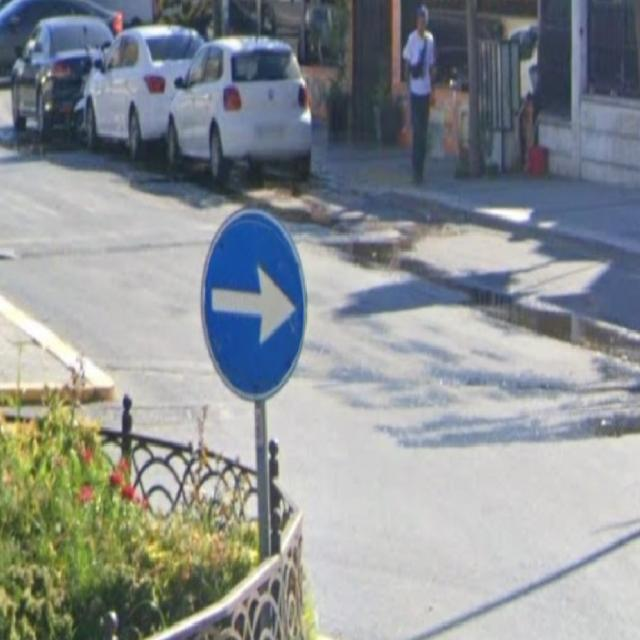Turn Right: (197, 200, 308, 404)
